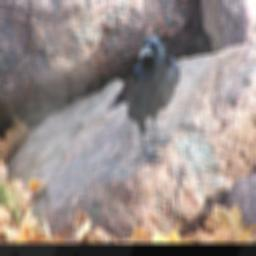Crow: (100, 29, 181, 167)
